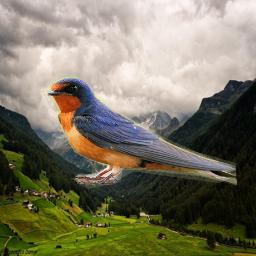Swallow: (42, 73, 237, 191)
